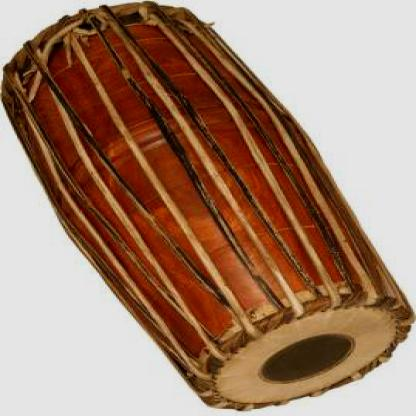Mridangam: (1, 1, 416, 416)
